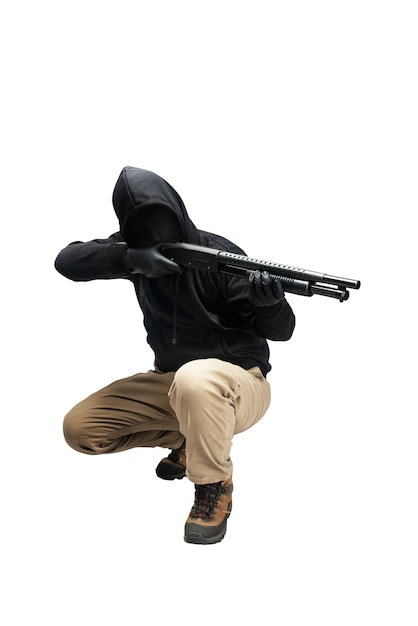gun: (132, 242, 363, 303)
